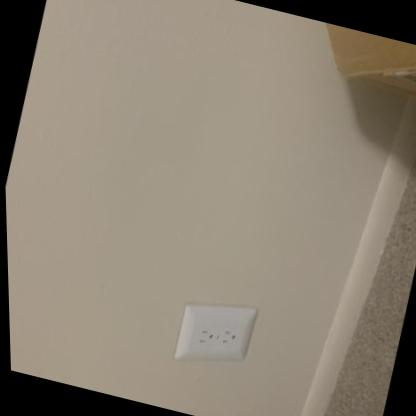OUTLET: (169, 292, 257, 380)
